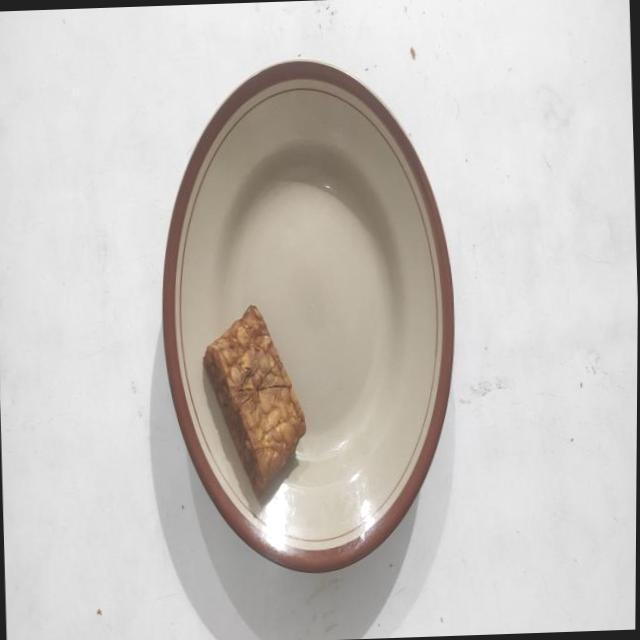tempe_goreng: (204, 306, 306, 494)
